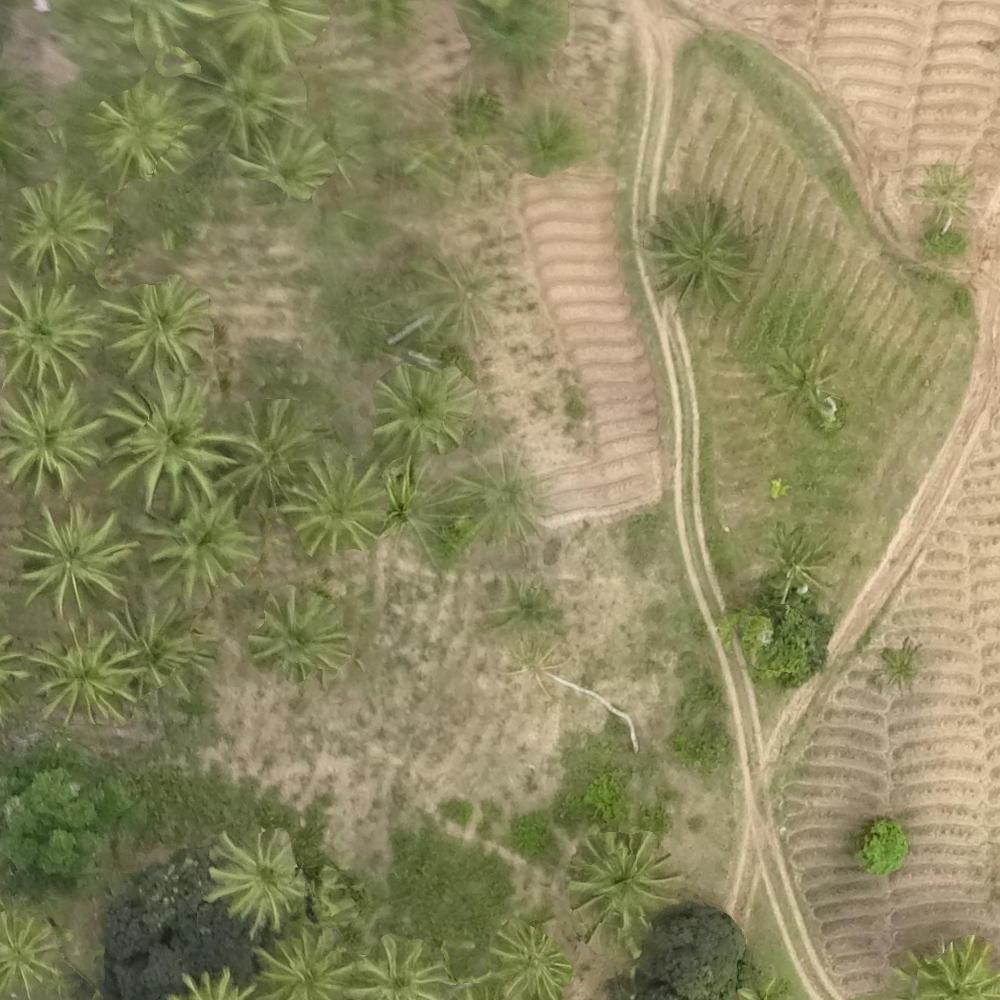Palm: (98, 379, 229, 509), (99, 380, 222, 504), (139, 492, 257, 599), (16, 504, 130, 610), (37, 616, 143, 719), (210, 826, 311, 933), (648, 199, 757, 298), (110, 594, 212, 699), (571, 832, 680, 930), (104, 279, 211, 375), (3, 280, 97, 386), (4, 386, 100, 489), (217, 397, 314, 497), (11, 181, 112, 276), (287, 456, 387, 549), (251, 588, 348, 682), (375, 363, 467, 455), (95, 88, 187, 176), (252, 927, 360, 1000), (460, 457, 541, 539), (488, 915, 571, 994), (358, 929, 448, 1000), (764, 523, 836, 598), (769, 345, 841, 416), (874, 636, 924, 692)
